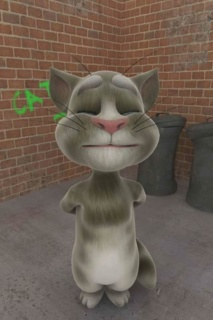Cat: (34, 52, 176, 310)
